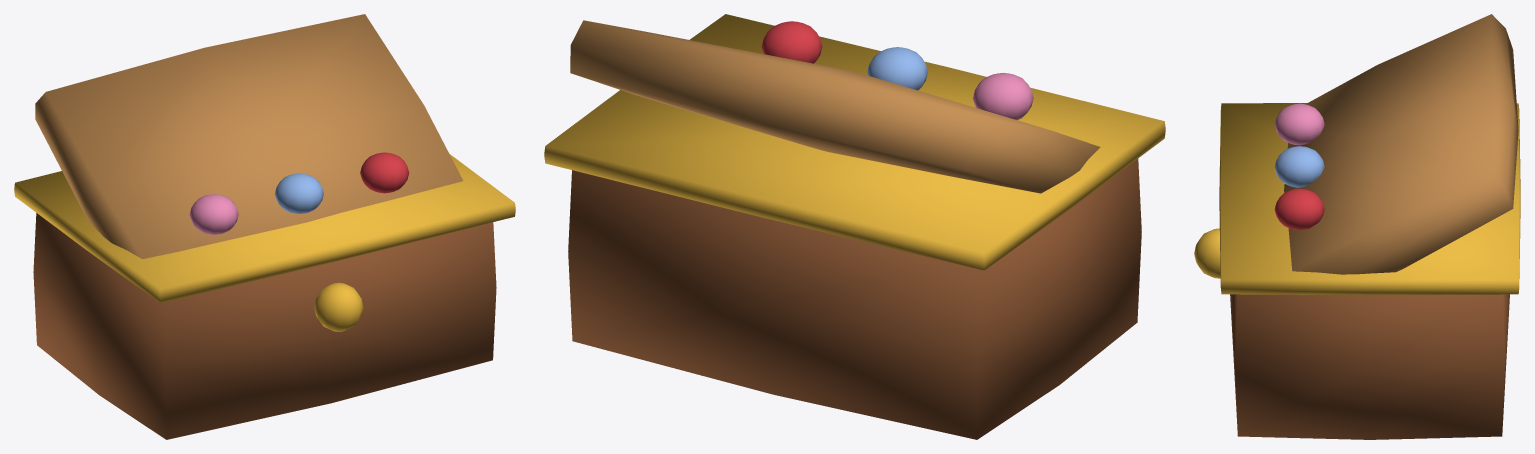
The model's file is jewellery_box.glb.
3 views of the same model, side by side, from view 1: azimuth 30°, elevation 25°; view 2: azimuth 150°, elevation 25°; view 3: azimuth 270°, elevation 25° (orthographic). The views are drawn at different scales.
Visible parts, largest first — view 1: root; view 2: root; view 3: root.
Boxes of the visible parts, box(x1,y1,x2,y2) form: root: box(14, 14, 515, 439); root: box(544, 14, 1165, 439); root: box(1194, 14, 1520, 439).
Size of the model in its own units: 0.42 by 0.3009 by 0.325.
